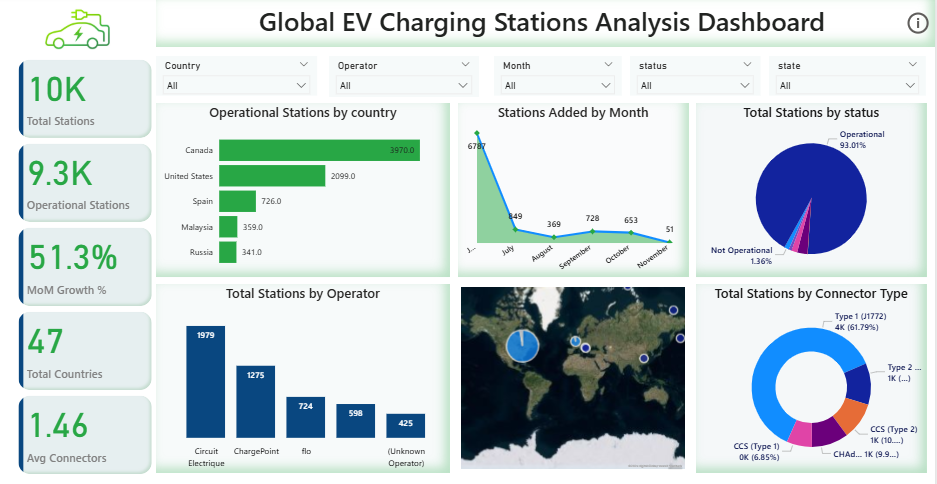

What the dashboard file says about the page in this screenshot:
{"tool":"powerbi","page":{"name":"Page 1","canvas":[1348,720],"ordinal":0},"visuals":[{"type":"textbox","box":[226.1,5.8,1121.9,66.7],"z":0},{"type":"cardVisual","fields":{"Data":["ev_stations_2025.Total Stations","ev_stations_2025.Operational Stations","ev_stations_2025.MoM Growth %","ev_stations_2025.Total Countries","ev_stations_2025.Avg Connectors"]},"box":[23.2,87,202.9,611.7],"z":1},{"type":"barChart","fields":{"Category":["ev_stations_2025.country"],"Y":["ev_stations_2025.Operational Stations"]},"box":[226.1,153.6,423.2,250.8],"z":2},{"type":"clusteredColumnChart","fields":{"Category":["ev_stations_2025.operator"],"Y":["ev_stations_2025.Total Stations"]},"box":[226.1,414.5,423.2,272.5],"z":3},{"type":"donutChart","title":"Total Stations by Connector Type","fields":{"Y":["ev_stations_2025.Total Stations"],"Category":["ev_stations_2025.connector_types"]},"box":[1003,414.5,331.9,272.5],"z":4},{"type":"lineChart","title":"Stations Added by Month","fields":{"Category":["ev_stations_2025.date_added.Variation.Date Hierarchy.Month"],"Y":["ev_stations_2025.Total Stations"]},"box":[661,153.6,331.9,250.8],"z":6},{"type":"azureMap","fields":{"Category":["ev_stations_2025.country"],"Y":["Sum(ev_stations_2025.lat)"],"X":["Sum(ev_stations_2025.lon)"],"Series":["ev_stations_2025.status"],"Size":["ev_stations_2025.Operational Stations %"]},"box":[661,414.5,331.9,272.5],"z":7},{"type":"slicer","fields":{"Values":["ev_stations_2025.country"]},"box":[226.1,87,231.9,56.5],"z":8},{"type":"slicer","fields":{"Values":["ev_stations_2025.operator"]},"box":[475.4,87,216,59.4],"z":9},{"type":"slicer","fields":{"Values":["ev_stations_2025.date_added.Variation.Date Hierarchy.Month"]},"box":[713.1,87,184.1,56.5],"z":10},{"type":"image","box":[0,0,226.1,96.5],"z":12},{"type":"pieChart","fields":{"Y":["ev_stations_2025.Total Stations"],"Series":["ev_stations_2025.status"]},"box":[1003,153.6,331.9,250.8],"z":13},{"type":"slicer","fields":{"Values":["ev_stations_2025.status"]},"box":[908.8,87,188.4,56.5],"z":14},{"type":"slicer","fields":{"Values":["ev_stations_2025.state"]},"box":[1108.8,87,226.1,56.5],"z":15},{"type":"actionButton","box":[1303.1,18.8,44.9,40.6],"z":17}]}

Visuals, with their boxes on the page's 1348x720 design canvas (x1, y1, x2, y2). These are canvas units, not pixel positions in the 937x484 screenshot, which may show the page scaled, cropped or inside an application window:
textbox: [226, 6, 1348, 72]
cardVisual - ev_stations_2025.Total Stations x ev_stations_2025.Operational Stations: [23, 87, 226, 699]
barChart - ev_stations_2025.country x ev_stations_2025.Operational Stations: [226, 154, 649, 404]
clusteredColumnChart - ev_stations_2025.operator x ev_stations_2025.Total Stations: [226, 414, 649, 687]
"Total Stations by Connector Type" donutChart: [1003, 414, 1335, 687]
"Stations Added by Month" lineChart: [661, 154, 993, 404]
azureMap - ev_stations_2025.country x Sum(ev_stations_2025.lat): [661, 414, 993, 687]
slicer - ev_stations_2025.country: [226, 87, 458, 144]
slicer - ev_stations_2025.operator: [475, 87, 691, 146]
slicer - ev_stations_2025.date_added.Variation.Date Hierarchy.Month: [713, 87, 897, 144]
image: [0, 0, 226, 96]
pieChart - ev_stations_2025.Total Stations x ev_stations_2025.status: [1003, 154, 1335, 404]
slicer - ev_stations_2025.status: [909, 87, 1097, 144]
slicer - ev_stations_2025.state: [1109, 87, 1335, 144]
actionButton: [1303, 19, 1348, 59]
